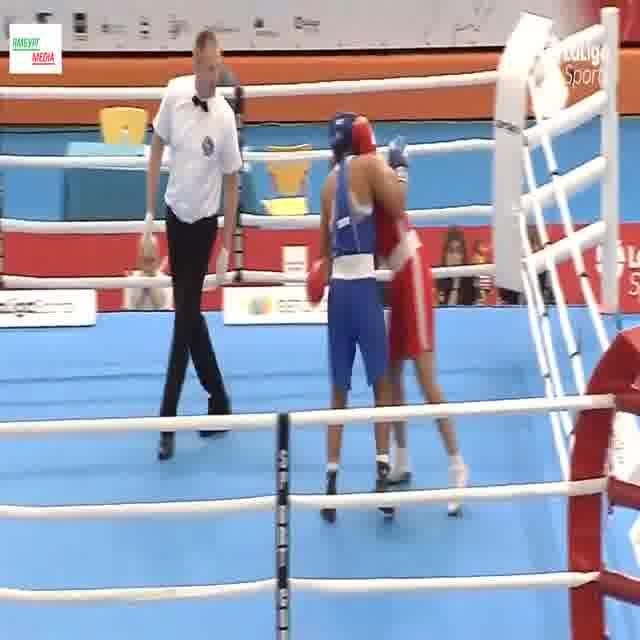blue-player: (319, 110, 412, 521)
red-player: (306, 106, 474, 519)
referee: (140, 26, 244, 468)
